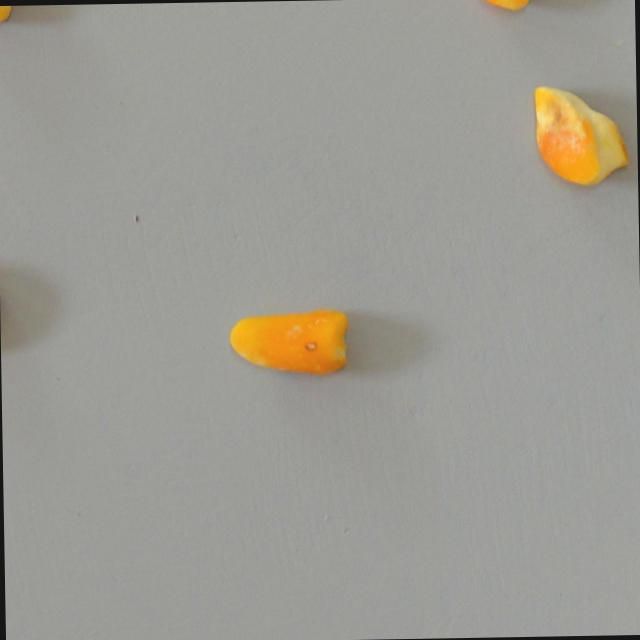dañado: (218, 277, 353, 388), (522, 83, 637, 193), (0, 247, 20, 356), (464, 0, 577, 18)
